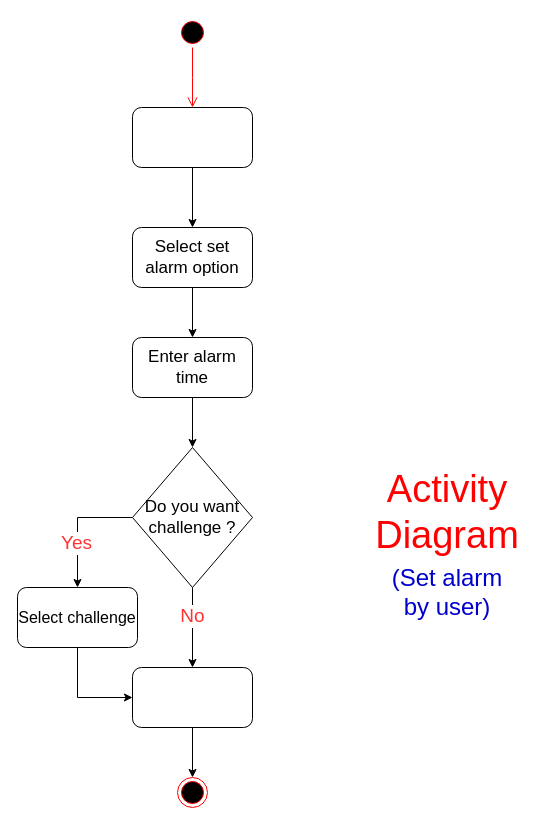
Some shapes in this 537 by 825 pixel diagram are drawn without their labels. Here are the shapes that lost their labels. From the top down, the centre of each, then its label:
pixel 192 137: Open APP
pixel 192 697: Confirm alarm
